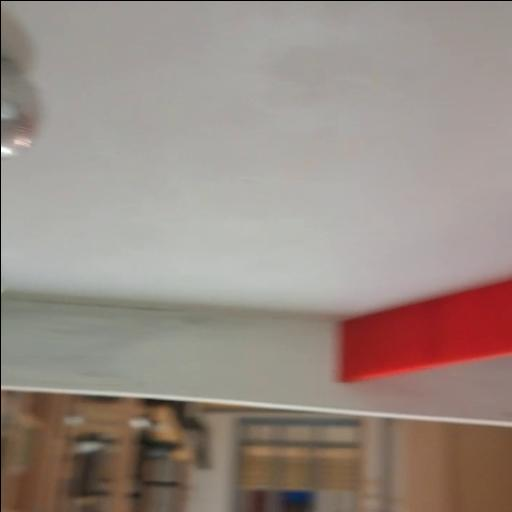alive: (0, 56, 40, 158)
